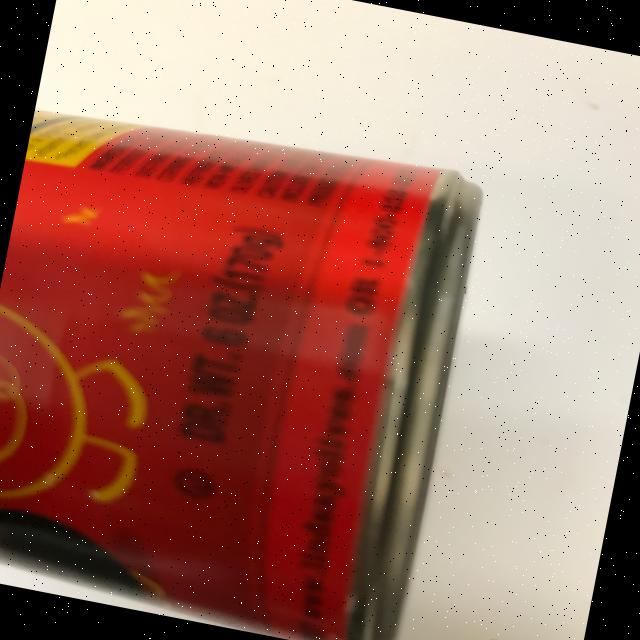metal: (0, 89, 491, 640)
